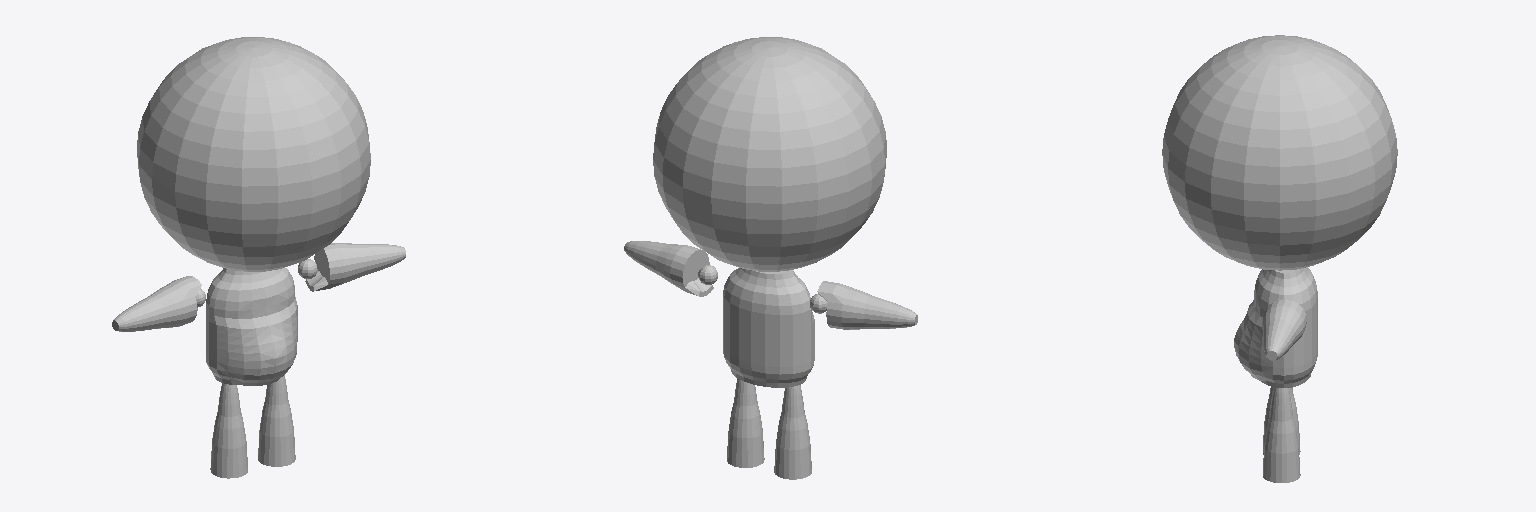
File: planetHead.obj
3 renders of one model, left to right at view 1: azimuth 30°, elevation 25°; view 2: azimuth 150°, elevation 25°; view 3: azimuth 270°, elevation 25°, orthographic.
Visible parts, largest first — view 1: planetHead planet_head, planetHead torso, planetHead leftArm leftArmMain, planetHead rightArm riightArmMain, rightLegMain rightLeg planetHead, planetHead pasted__rightLegMain pasted__rightLeg; view 2: planetHead planet_head, planetHead torso, planetHead rightArm riightArmMain, planetHead leftArm leftArmMain, rightLegMain rightLeg planetHead, planetHead pasted__rightLegMain pasted__rightLeg; view 3: planetHead planet_head, planetHead torso, planetHead pasted__rightLegMain pasted__rightLeg, planetHead leftArm leftArmMain.
Part boxes in pixels (bbox=[...]): planetHead planet_head: bbox=[137, 37, 370, 271]; planetHead torso: bbox=[206, 268, 297, 385]; planetHead leftArm leftArmMain: bbox=[305, 243, 405, 291]; planetHead rightArm riightArmMain: bbox=[112, 276, 201, 331]; rightLegMain rightLeg planetHead: bbox=[210, 383, 247, 478]; planetHead pasted__rightLegMain pasted__rightLeg: bbox=[258, 375, 295, 466]; planetHead planet_head: bbox=[653, 37, 886, 271]; planetHead torso: bbox=[723, 268, 814, 387]; planetHead rightArm riightArmMain: bbox=[817, 281, 917, 329]; planetHead leftArm leftArmMain: bbox=[624, 241, 713, 296]; rightLegMain rightLeg planetHead: bbox=[774, 385, 811, 479]; planetHead pasted__rightLegMain pasted__rightLeg: bbox=[727, 378, 764, 467]; planetHead planet_head: bbox=[1162, 35, 1397, 270]; planetHead torso: bbox=[1234, 267, 1317, 387]; planetHead pasted__rightLegMain pasted__rightLeg: bbox=[1263, 388, 1300, 482]; planetHead leftArm leftArmMain: bbox=[1262, 299, 1306, 360].
Bounding box in the file's own units: 4.9 × 6.73 × 3.44.